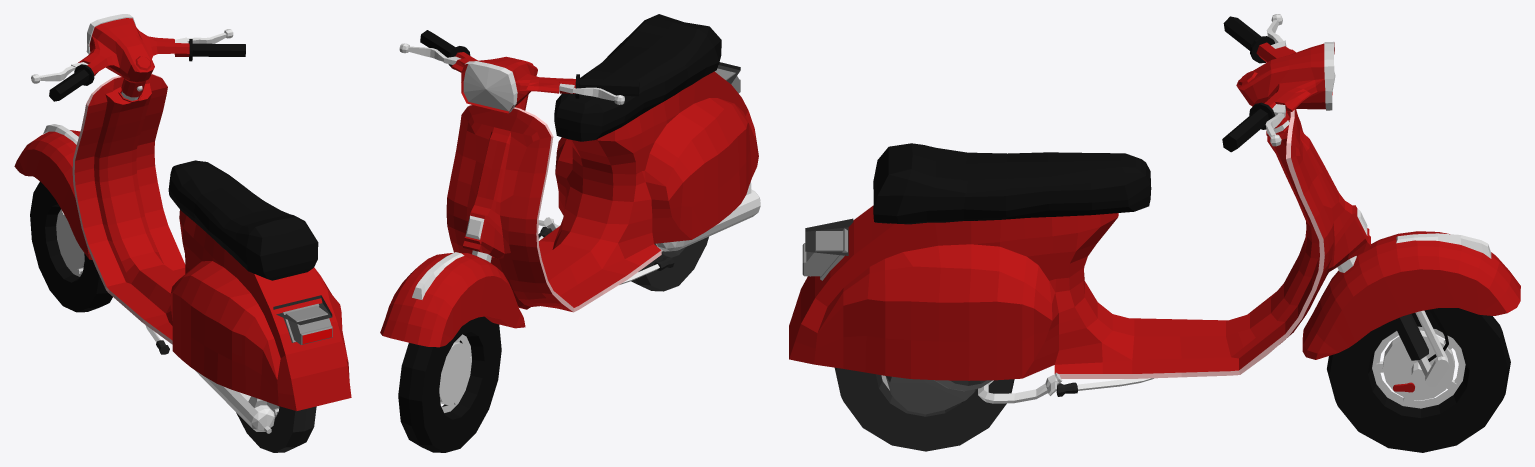
Rendered from vespa.glb.
The picture shows the model from 3 angles, left to right: view 1: azimuth 30°, elevation 25°; view 2: azimuth 150°, elevation 25°; view 3: azimuth 270°, elevation 25°; orthographic projection. The views are drawn at different scales.
Parts seen in each view (by area): view 1: body, wheel_F, wheel_R; view 2: body, wheel_F, wheel_R; view 3: body, wheel_F, wheel_R.
Boxes of the visible parts, x1,y1,x2,y2 form: body: (14, 14, 351, 433); wheel_F: (30, 181, 112, 312); wheel_R: (236, 402, 316, 452); body: (380, 14, 760, 347); wheel_F: (398, 316, 510, 452); wheel_R: (631, 236, 708, 291); body: (789, 14, 1520, 414); wheel_F: (1327, 308, 1510, 452); wheel_R: (834, 367, 1014, 451).
Bounding box in the file's own units: 0.7009 × 1.05 × 1.75.
Materials: 1 (1 with a texture image).
